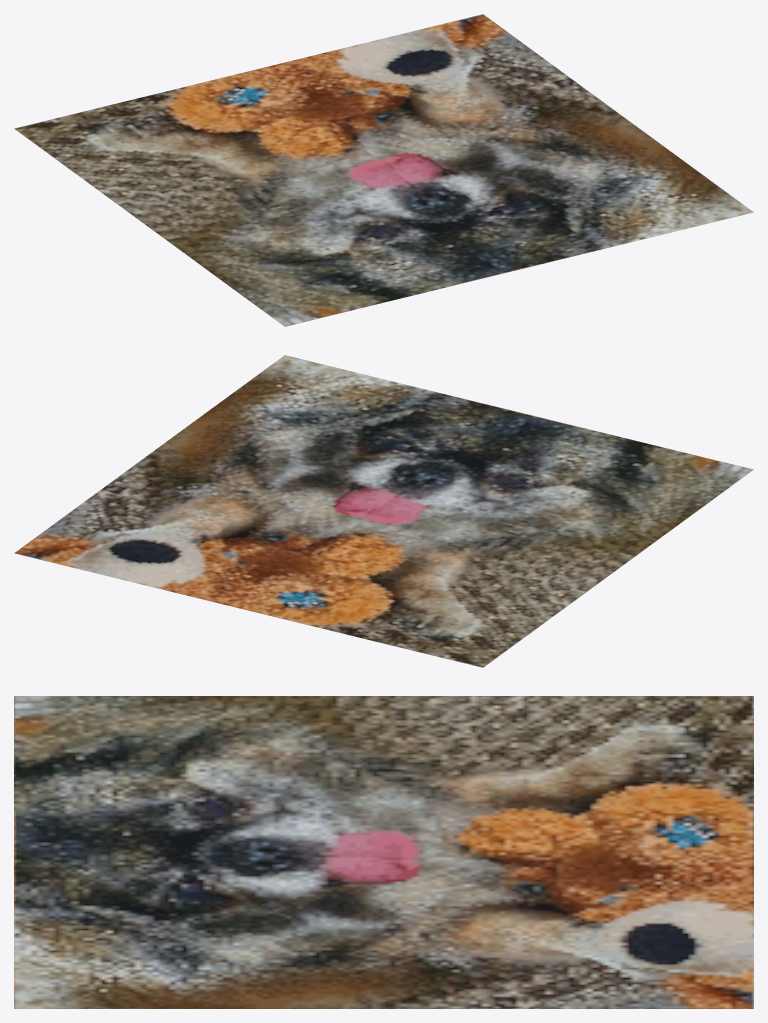
File: plane_16x16_flat_textured.obj
3 views of the same model, one above another, from view 1: azimuth 30°, elevation 25°; view 2: azimuth 150°, elevation 25°; view 3: azimuth 270°, elevation 25° (orthographic). The views are drawn at different scales.
Visible parts, largest first — view 1: Plane; view 2: Plane; view 3: Plane.
Boxes of the visible parts, x1,y1,x2,y2 form: Plane: (14, 14, 753, 326); Plane: (14, 355, 753, 667); Plane: (14, 696, 753, 1008).
Size of the model in its own units: 1 by 0 by 1.
